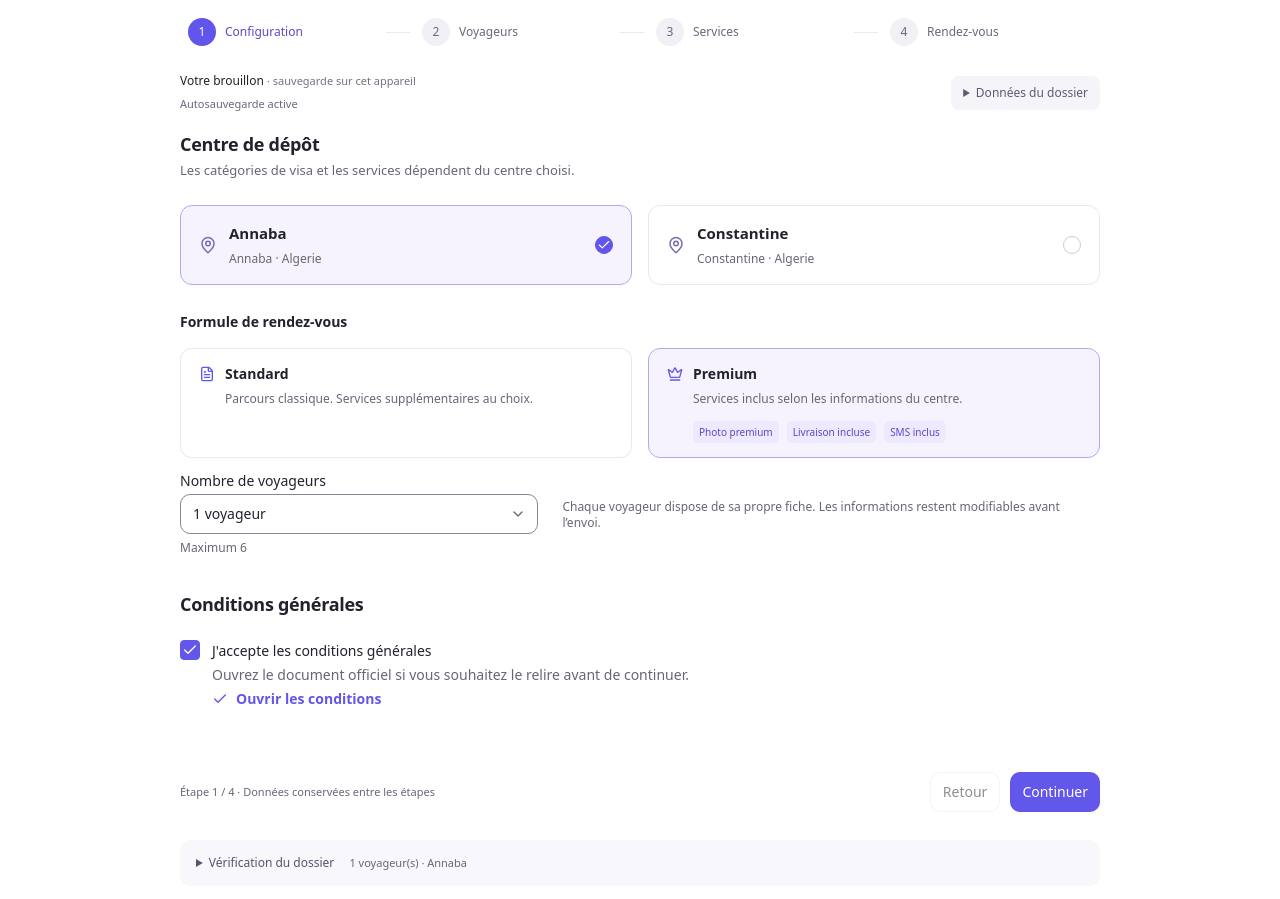
BookingShell flow › creates one traveller block per selected voyageur in step 1
Select "2 voyageurs" in the dropdown labelled "Nombre de voyageurs" at (359, 514), box [180, 494, 538, 534]
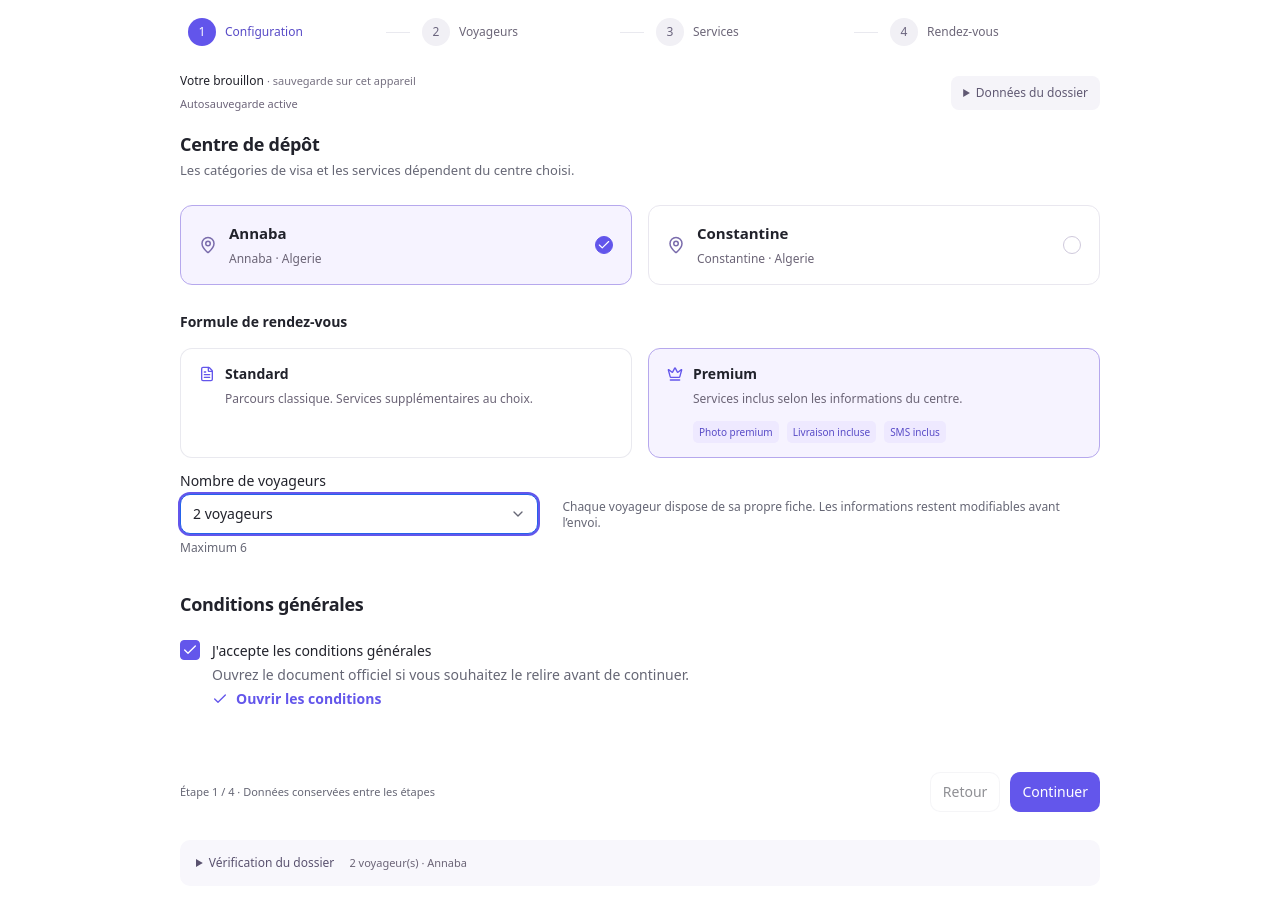
Click the button "Continuer" at (1055, 792), box [1010, 772, 1100, 812]
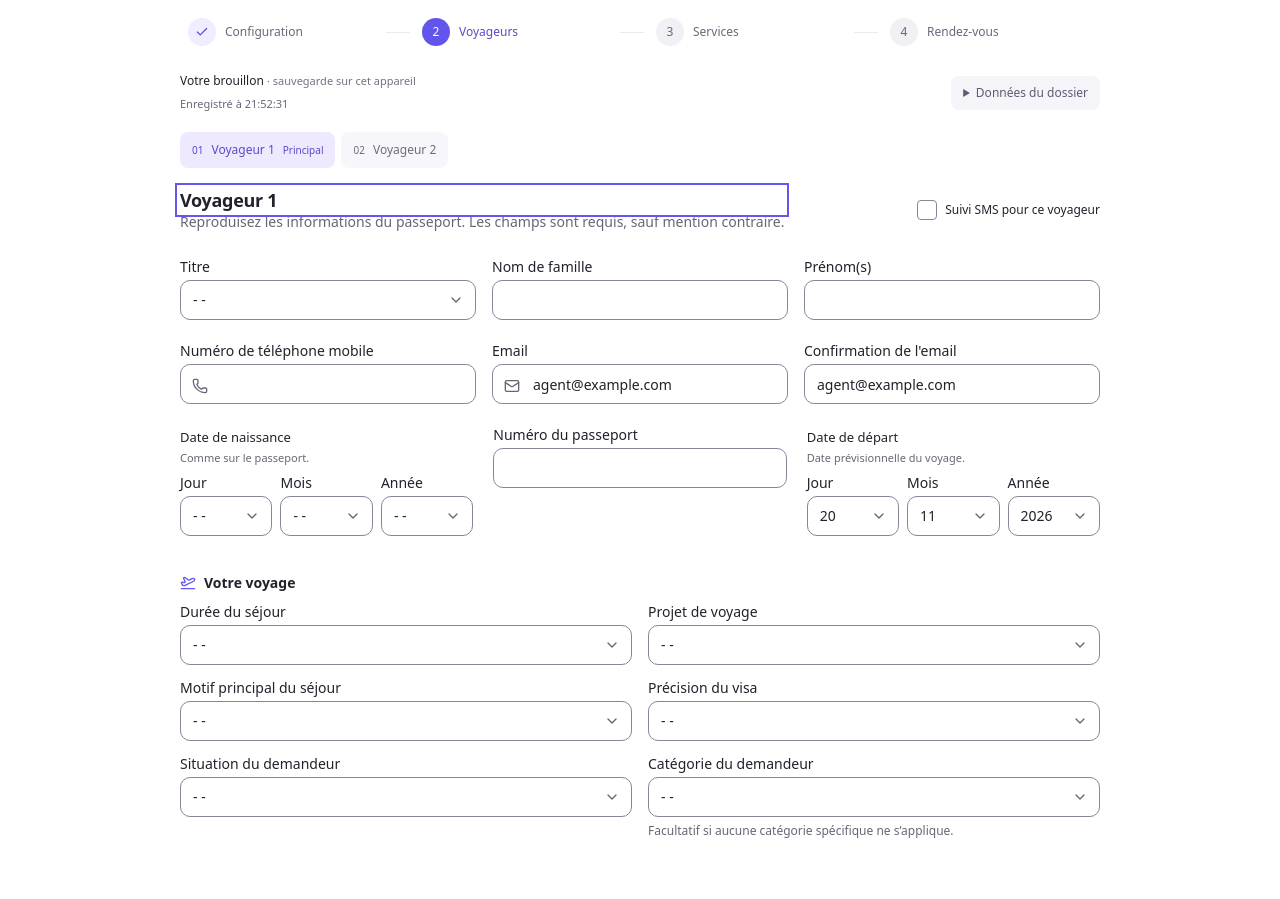
Expected: the heading "Voyageur 1" is shown, [180, 188, 277, 212]
Expected: the tab "02 Voyageur 2" is shown, [342, 132, 448, 168]
